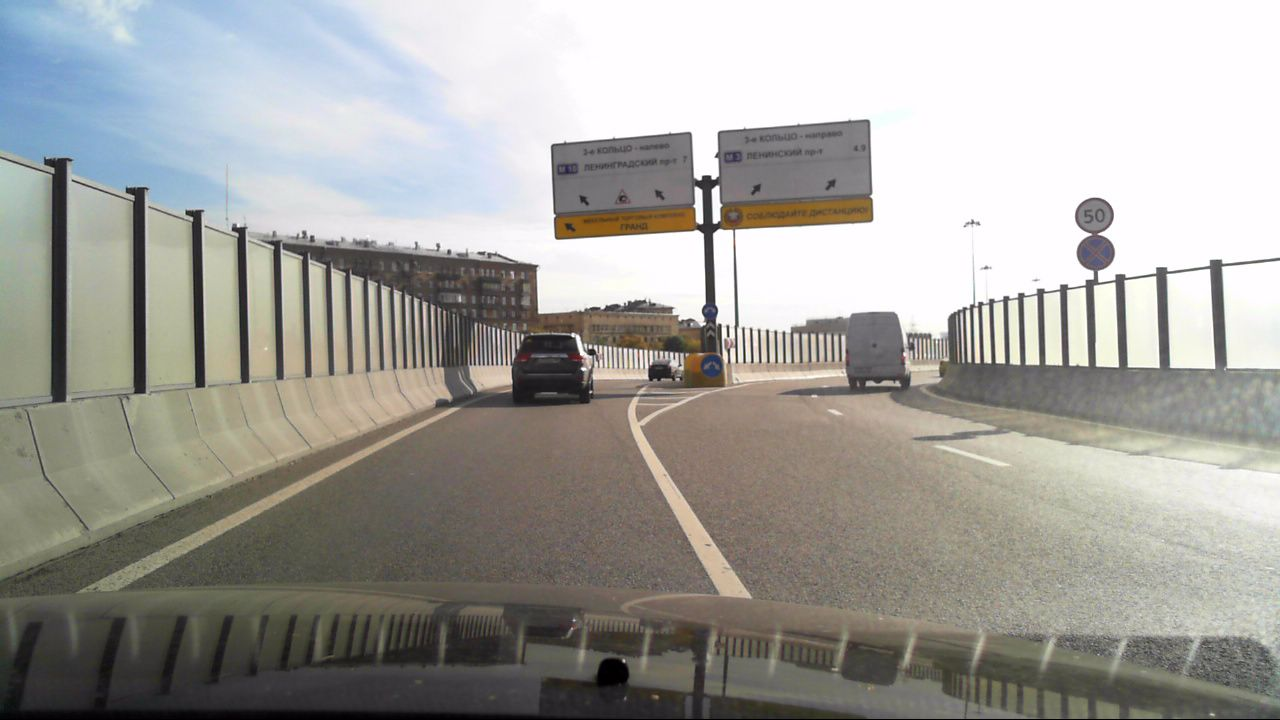No Parking: (1076, 233, 1115, 271)
